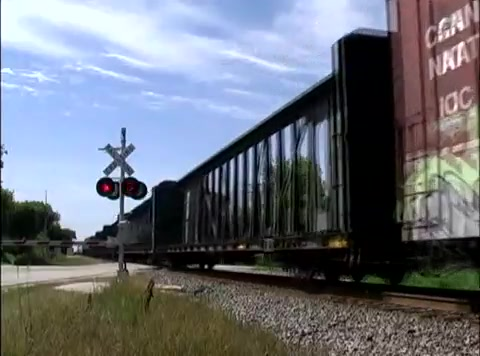train: (82, 1, 480, 287)
